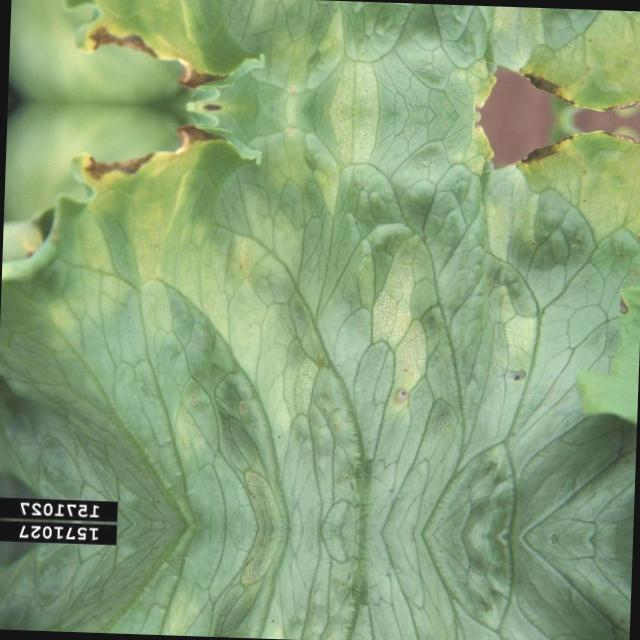Downy_mildew: (0, 99, 635, 513), (8, 0, 639, 121), (0, 545, 620, 640)
